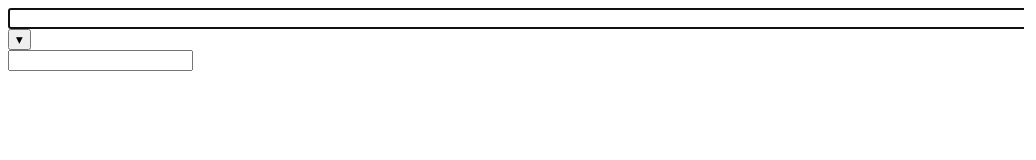
Test case: a field somebody can type into or pick from › LEAD-31: Enter takes the suggestion and moves to the next field
Type "cart" into the dropdown at (516, 18), box [8,8,1024,29]
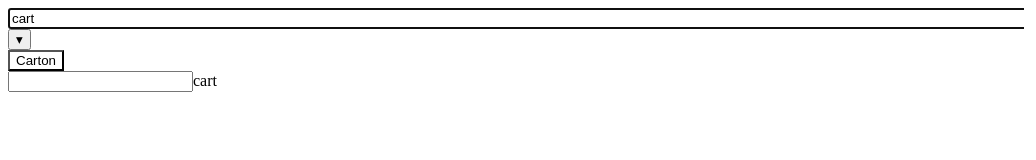
Press Enter in the dropdown, box [8,8,1024,29]
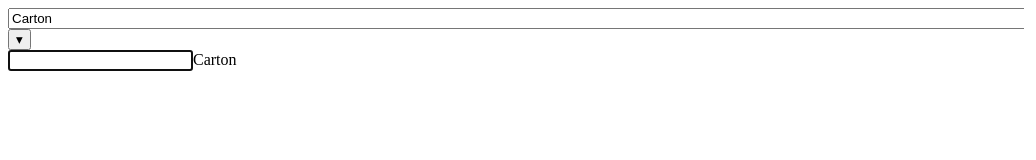
Expected: the text with test id "value" reads "Carton", [193,51,236,68]
